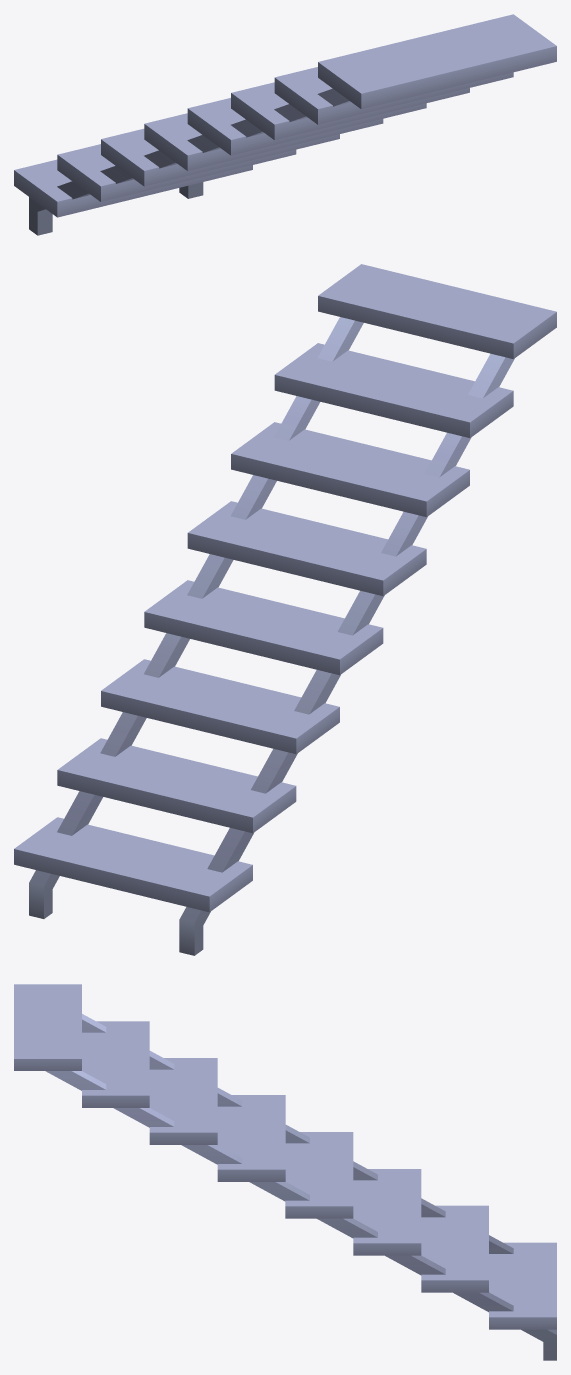
Rendered from kenney-building-stairs-open.glb.
The picture shows the model from 3 angles, top to bottom: view 1: azimuth 30°, elevation 25°; view 2: azimuth 150°, elevation 25°; view 3: azimuth 270°, elevation 25°; orthographic projection. The views are drawn at different scales.
Visible parts, largest first — view 1: stairs-open; view 2: stairs-open; view 3: stairs-open.
Part boxes in pixels (x1,y1,x2,y2): stairs-open: [14, 14, 556, 235]; stairs-open: [14, 264, 556, 955]; stairs-open: [14, 984, 556, 1360].
Size of the model in its own units: 1.3 by 2.5 by 4.
1 material, 1 textured.
